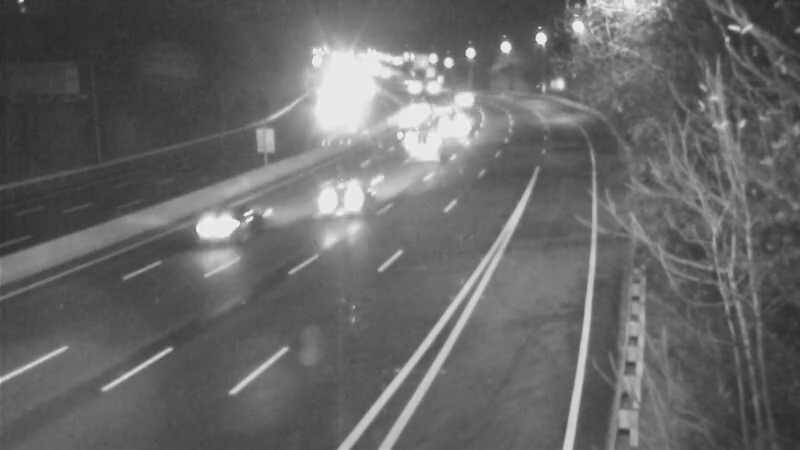vehicle: (300, 157, 380, 237), (173, 190, 253, 270), (404, 62, 454, 112), (435, 69, 485, 119), (414, 80, 464, 130), (394, 83, 444, 133), (379, 95, 429, 145), (422, 103, 472, 153), (404, 115, 454, 165), (305, 97, 355, 147)
